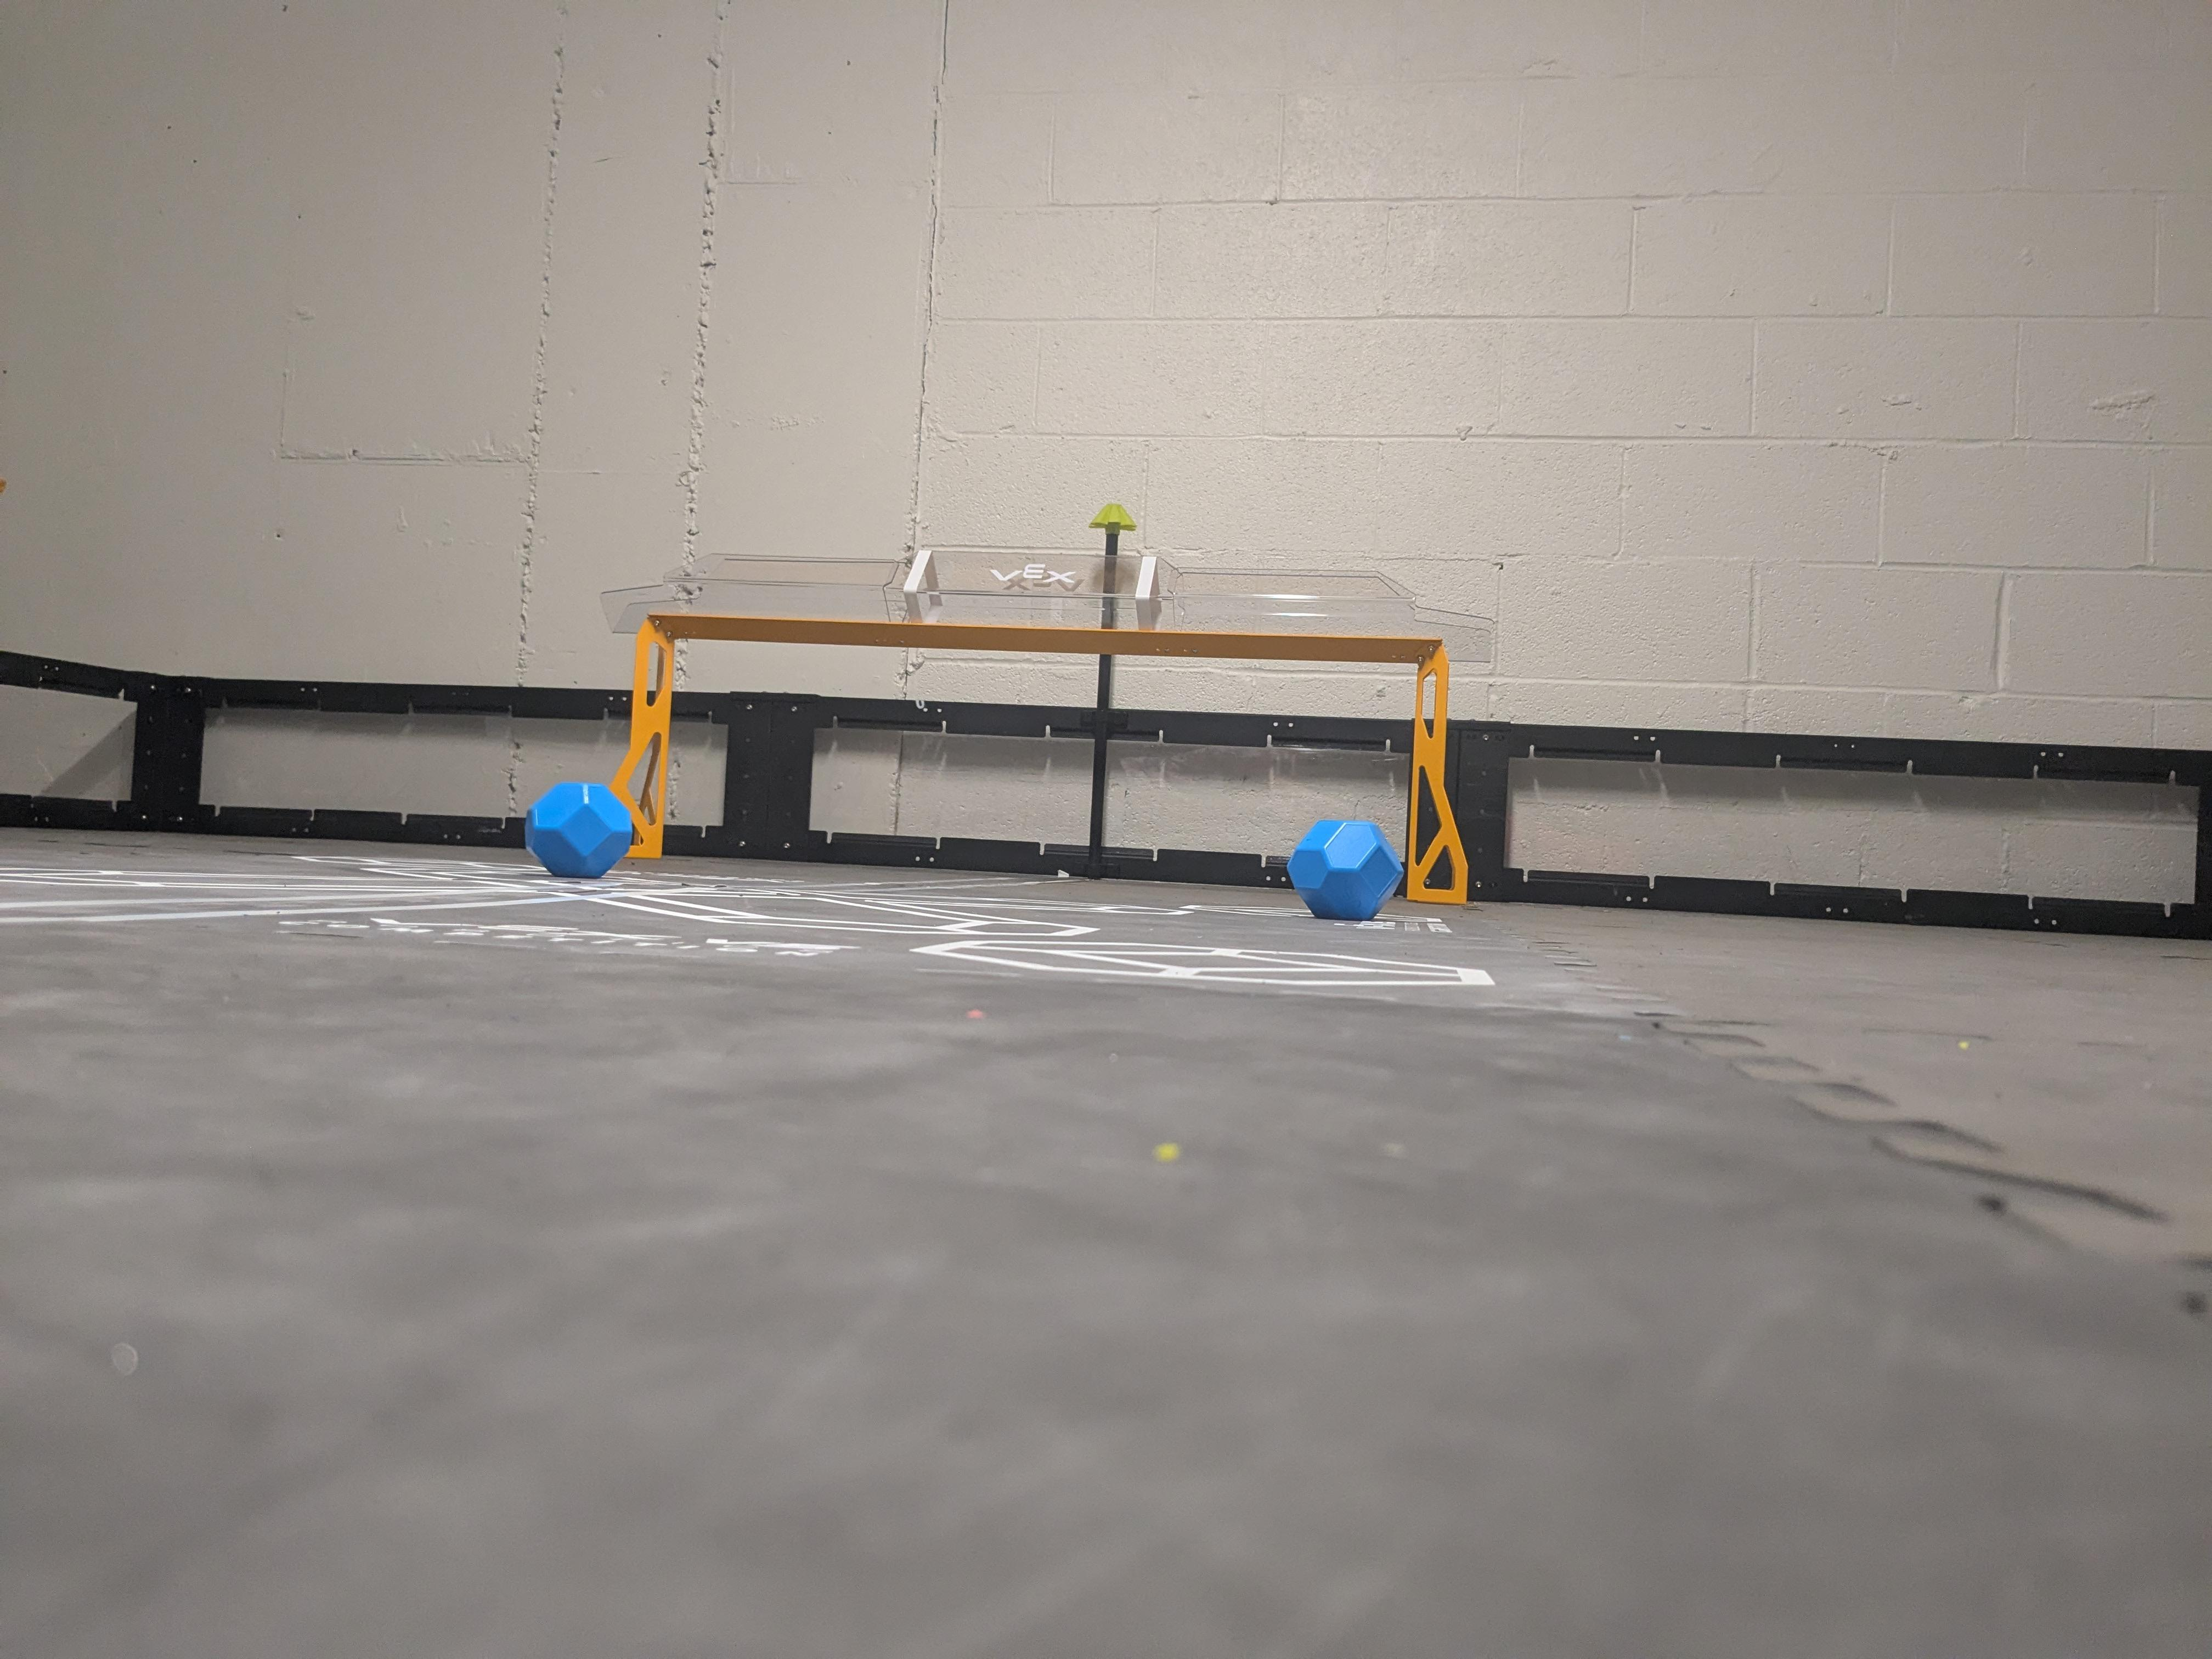Vex-Pieces-BLUE: (1289, 819, 1402, 920), (528, 784, 632, 877)
